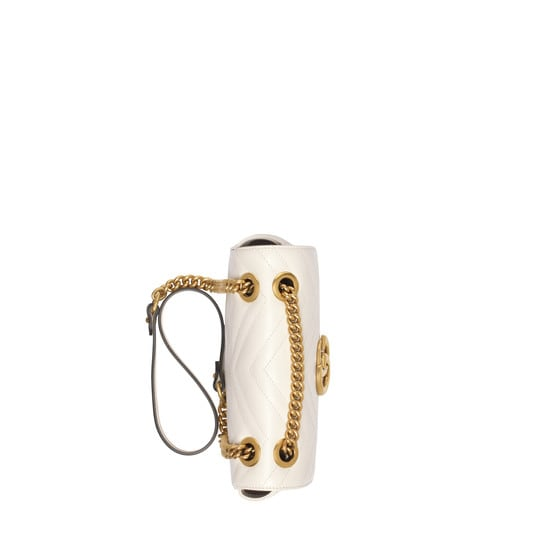Gucci: (205, 212, 368, 490), (228, 311, 289, 438)
